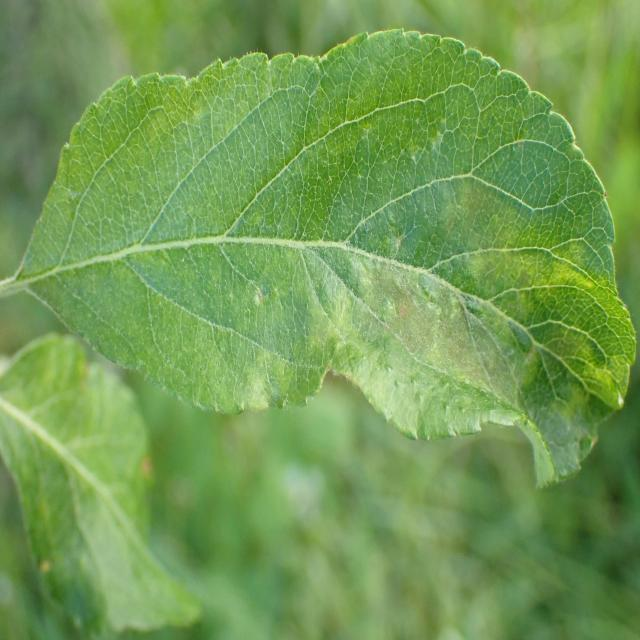scab: (79, 60, 623, 454)
